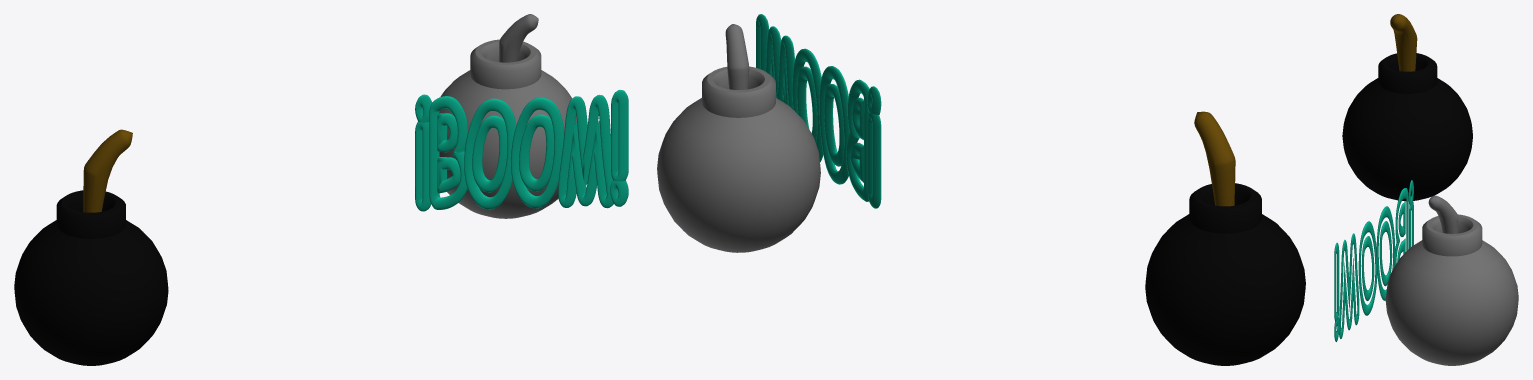
The model's file is Bombas.fbx.
3 views of the same model, side by side, from view 1: azimuth 30°, elevation 25°; view 2: azimuth 150°, elevation 25°; view 3: azimuth 270°, elevation 25° (orthographic). The views are drawn at different scales.
Parts seen in each view (by area): view 1: Sphere016, Sphere003; view 2: Sphere016, Sphere003; view 3: Sphere016, Sphere003.
Boxes of the visible parts, x1,y1,x2,y2 form: Sphere016: (415,14,628,218); Sphere003: (14,129,168,365); Sphere016: (657,14,881,252); Sphere003: (1145,111,1305,365); Sphere016: (1334,180,1518,365); Sphere003: (1342,14,1472,201).
Bounding box in the file's own units: 64.99 × 24.36 × 21.33.
